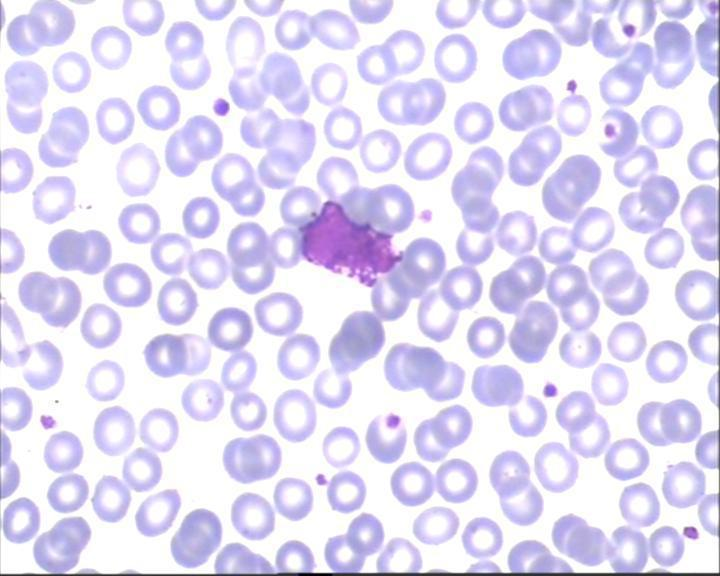baso: (293, 194, 403, 291)
